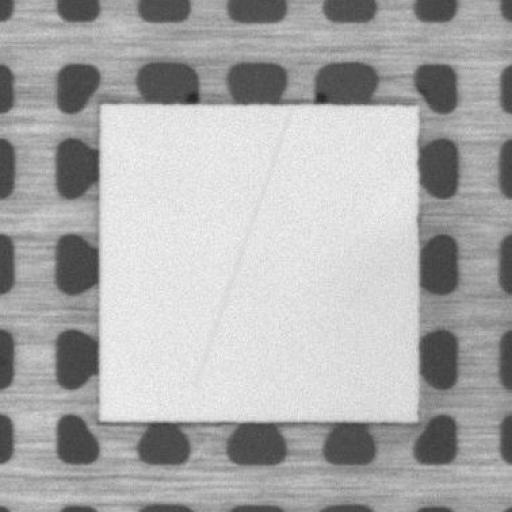DIE_CRACK: (193, 110, 289, 386)
